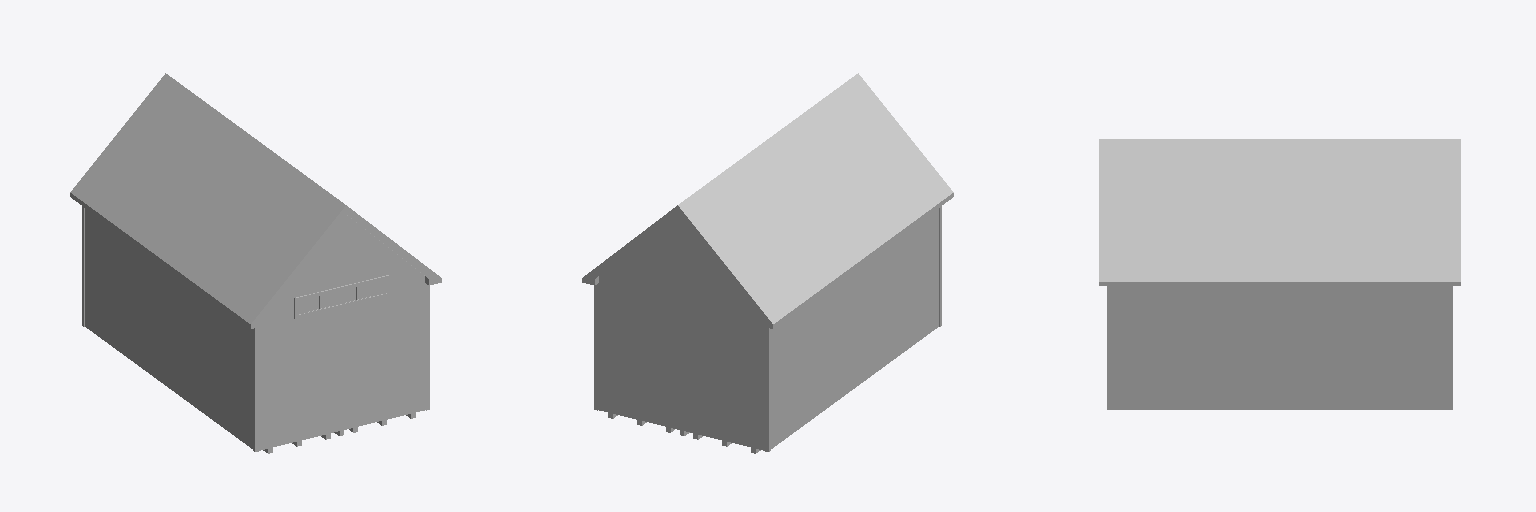
The model's file is Elite Garage_12x20.obj.
3 renders of one model, left to right at view 1: azimuth 30°, elevation 25°; view 2: azimuth 150°, elevation 25°; view 3: azimuth 270°, elevation 25°, orthographic.
Visible parts, largest first — view 1: Elite Garage_12x20.obj; view 2: Elite Garage_12x20.obj; view 3: Elite Garage_12x20.obj.
Boxes of the visible parts, x1=… form: Elite Garage_12x20.obj: x1=70, y1=73, x2=441, y2=453; Elite Garage_12x20.obj: x1=582, y1=73, x2=953, y2=453; Elite Garage_12x20.obj: x1=1099, y1=139, x2=1460, y2=409.
Size of the model in its own units: 3.91 by 4.57 by 6.4.